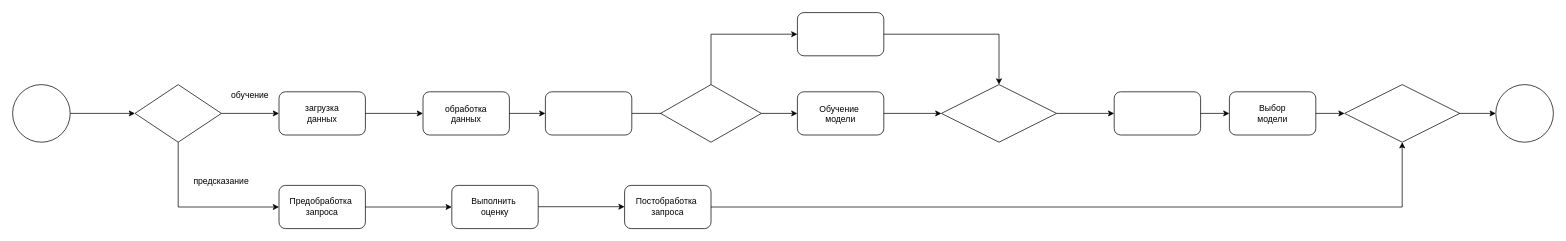
Some shapes in this 1566 by 241 pixel diagram are drawn without their labels. Here are the shapes that lost their labels. From the top down, the box of each, then its label:
(797, 12, 884, 56): Дообучение модели
(545, 91, 632, 135): Сохранение данных в артефакт
(1113, 91, 1201, 135): Анализ полученной метрики
